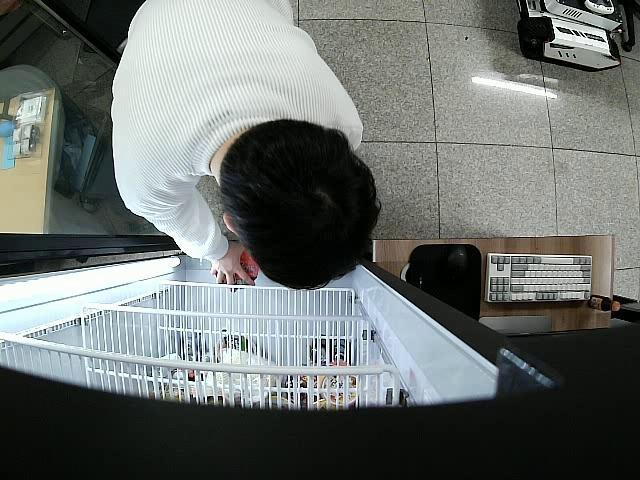01_ShinRamen_L: (216, 253, 262, 292)
